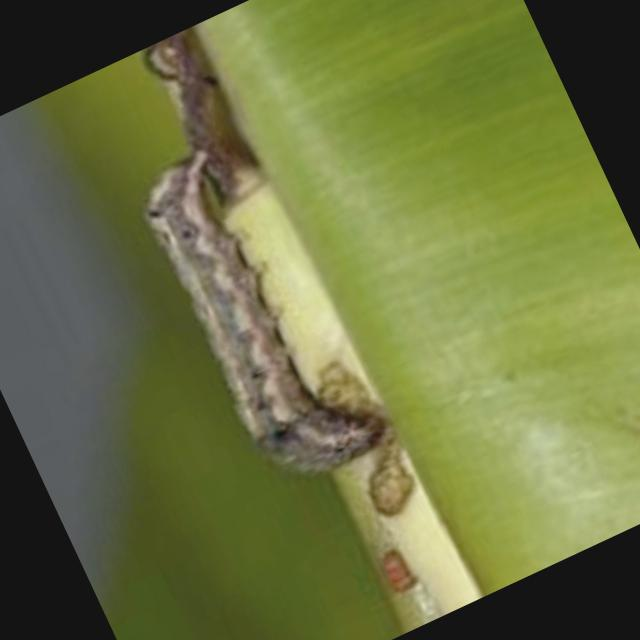Tobacco cutworm: (45, 38, 488, 575)
